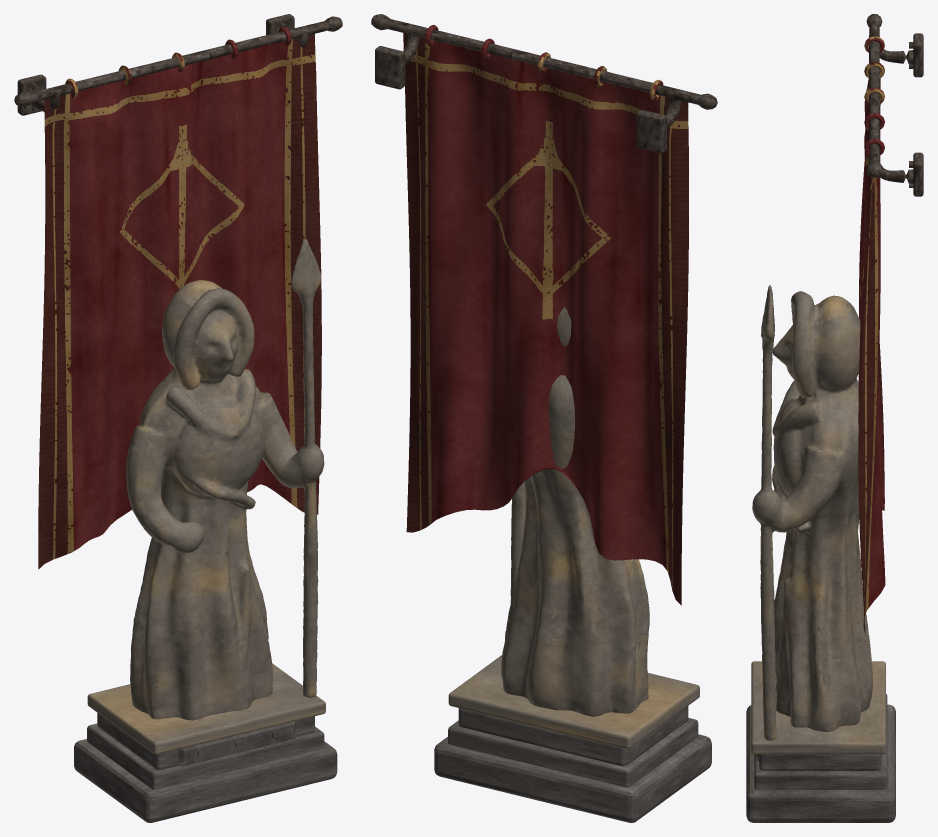
File: crypt_sentinel.glb
The picture shows the model from 3 angles, left to right: view 1: azimuth 30°, elevation 25°; view 2: azimuth 150°, elevation 25°; view 3: azimuth 270°, elevation 25°; orthographic projection. The views are drawn at different scales.
Visible parts, largest first — view 1: Crypt Sentinel Mesh; view 2: Crypt Sentinel Mesh; view 3: Crypt Sentinel Mesh.
Part boxes in pixels (left/top/right/bottom): Crypt Sentinel Mesh: left=14, top=14, right=342, bottom=822; Crypt Sentinel Mesh: left=371, top=14, right=717, bottom=822; Crypt Sentinel Mesh: left=746, top=14, right=923, bottom=822.
Size of the model in its own units: 1.76 by 3.62 by 0.841.
4 materials, 4 textured.
